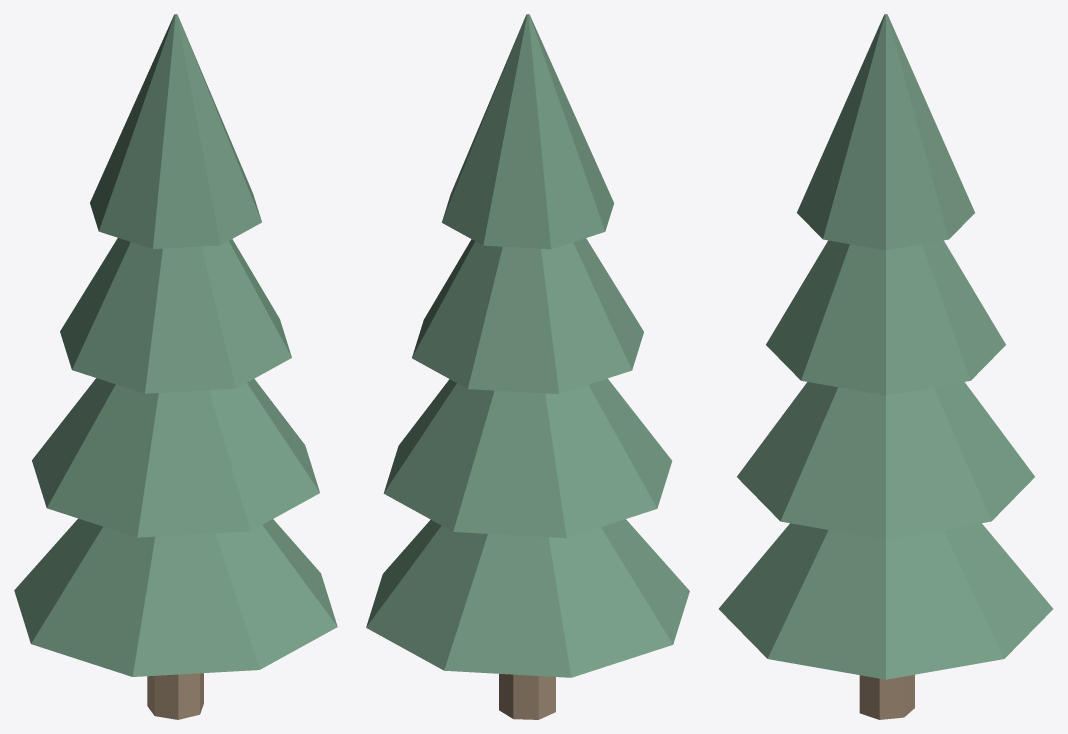
The model's file is split_pine_far-00ylz6Zr.glb.
3 renders of one model, left to right at view 1: azimuth 30°, elevation 25°; view 2: azimuth 150°, elevation 25°; view 3: azimuth 270°, elevation 25°, orthographic.
Visible parts, largest first — view 1: split_pine_far; view 2: split_pine_far; view 3: split_pine_far.
Part boxes in pixels (x1=…): split_pine_far: x1=14, y1=14, x2=337, y2=719; split_pine_far: x1=366, y1=14, x2=689, y2=719; split_pine_far: x1=719, y1=14, x2=1052, y2=719.
Size of the model in its own units: 9.2 by 21 by 9.2.
